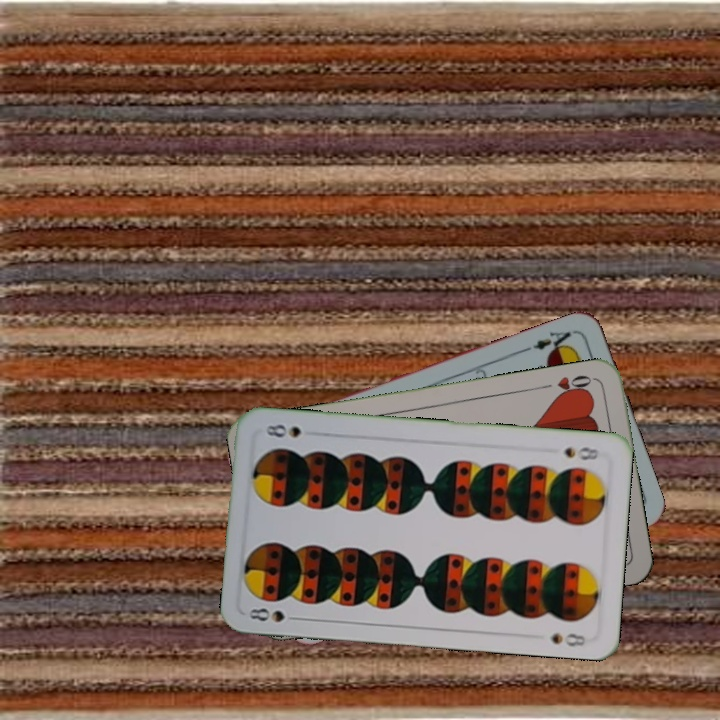EA: (521, 326, 578, 358)
HO: (537, 371, 596, 400)
S8: (244, 604, 304, 625), (560, 442, 603, 463)
